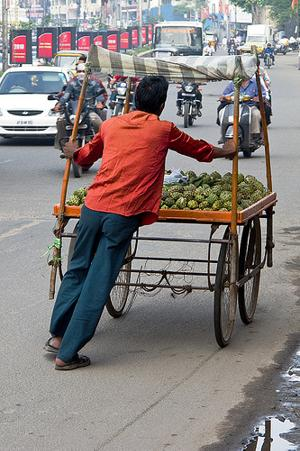person: (44, 72, 239, 368)
